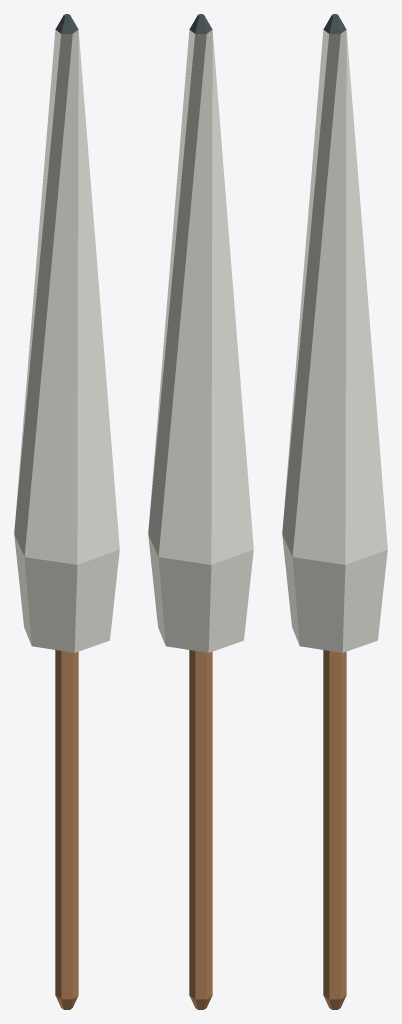
File: Umbrella_A_Closed.fbx
The picture shows the model from 3 angles, left to right: view 1: azimuth 90°, elevation 25°; view 2: azimuth 150°, elevation 25°; view 3: azimuth 270°, elevation 25°; orthographic projection.
Parts seen in each view (by area): view 1: Umbrella_A_Closed; view 2: Umbrella_A_Closed; view 3: Umbrella_A_Closed.
Part boxes in pixels (left/top/right/bottom): Umbrella_A_Closed: left=14, top=14, right=119, bottom=1009; Umbrella_A_Closed: left=148, top=14, right=253, bottom=1009; Umbrella_A_Closed: left=282, top=14, right=387, bottom=1009.
Size of the model in its own units: 18.89 by 188 by 18.16.
